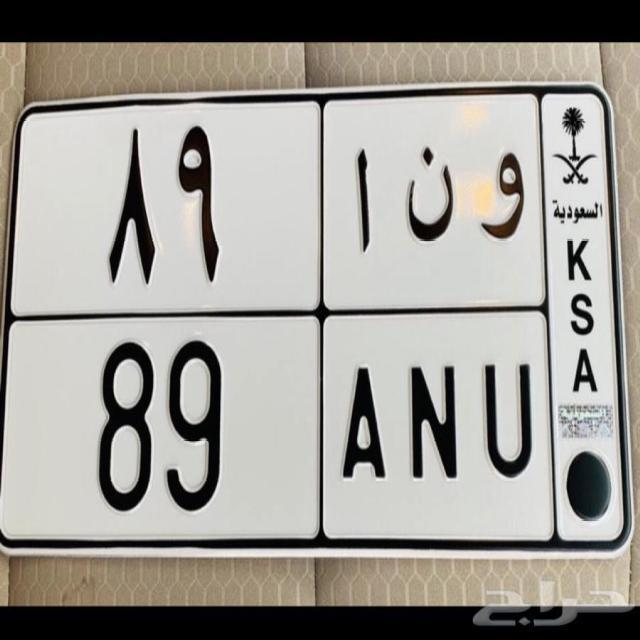license_plate: (8, 307, 562, 547)
